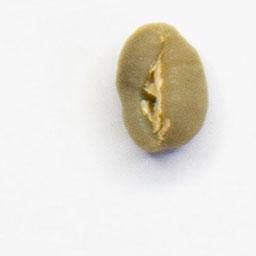peaberry: (113, 19, 213, 158)
